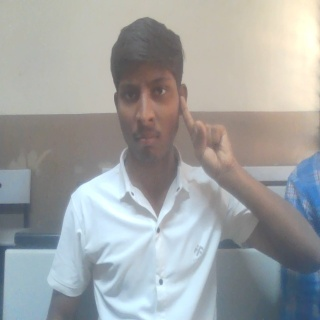Deaf: (179, 96, 244, 190)
Face: (108, 16, 190, 169)
